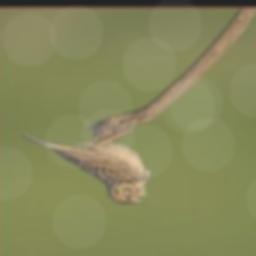Sparrow: (19, 127, 150, 206)
